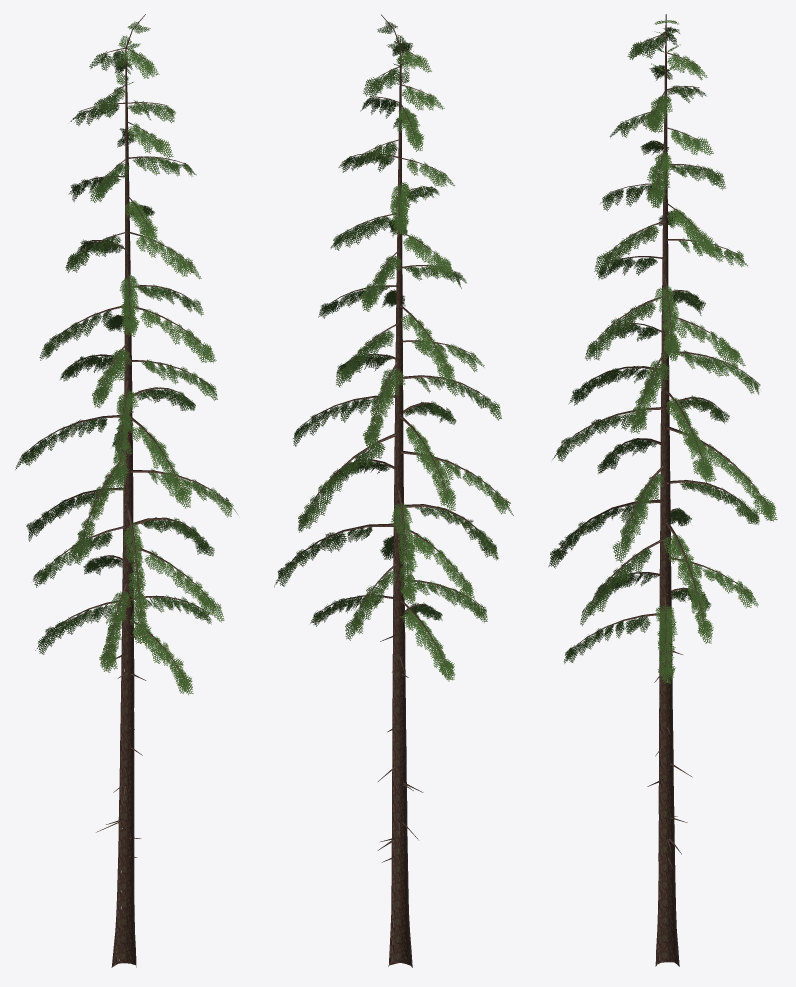
Rendered from hoh_western_hemlock.glb.
3 views of the same model, side by side, from view 1: azimuth 30°, elevation 25°; view 2: azimuth 150°, elevation 25°; view 3: azimuth 270°, elevation 25° (orthographic).
Visible parts, largest first — view 1: hoh_western_hemlock; view 2: hoh_western_hemlock; view 3: hoh_western_hemlock.
Boxes of the visible parts, left/top/right/bottom form: hoh_western_hemlock: left=15, top=14, right=238, bottom=967; hoh_western_hemlock: left=274, top=14, right=513, bottom=967; hoh_western_hemlock: left=548, top=14, right=777, bottom=966.
Size of the model in its own units: 7.03 by 32.15 by 7.19.
2 materials, 2 textured.
